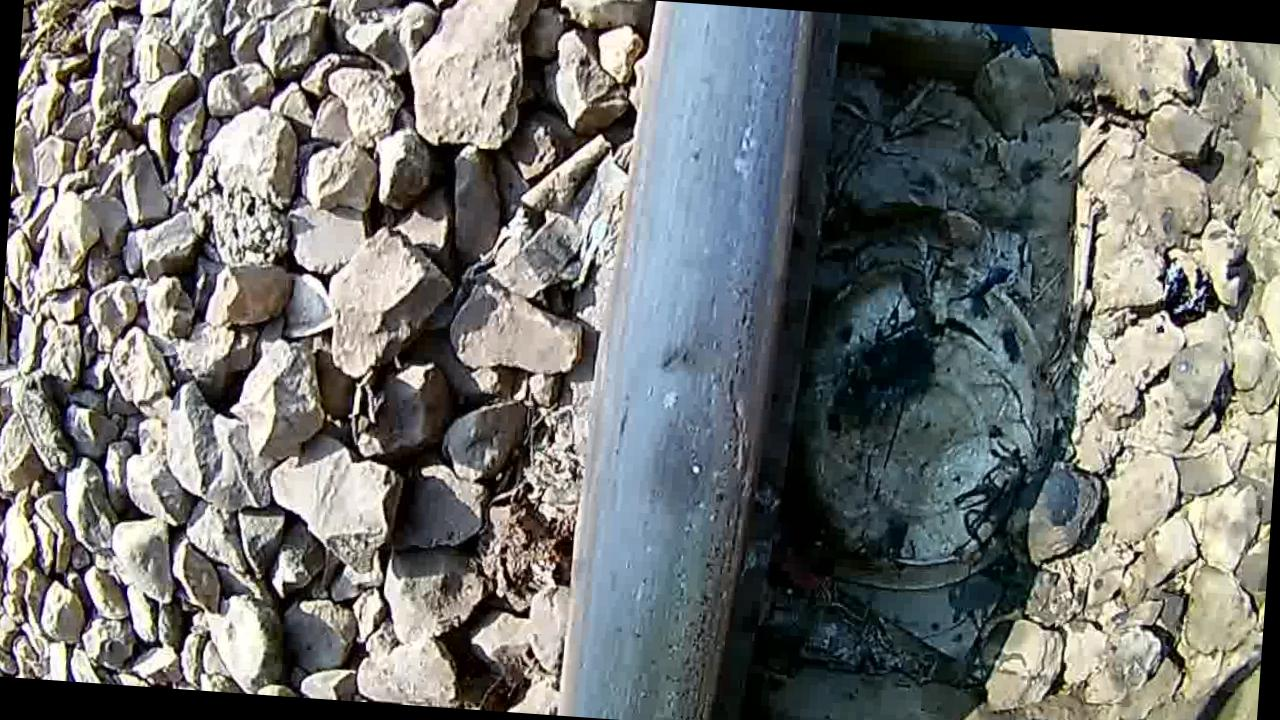bolt_missing: (587, 270, 759, 601)
